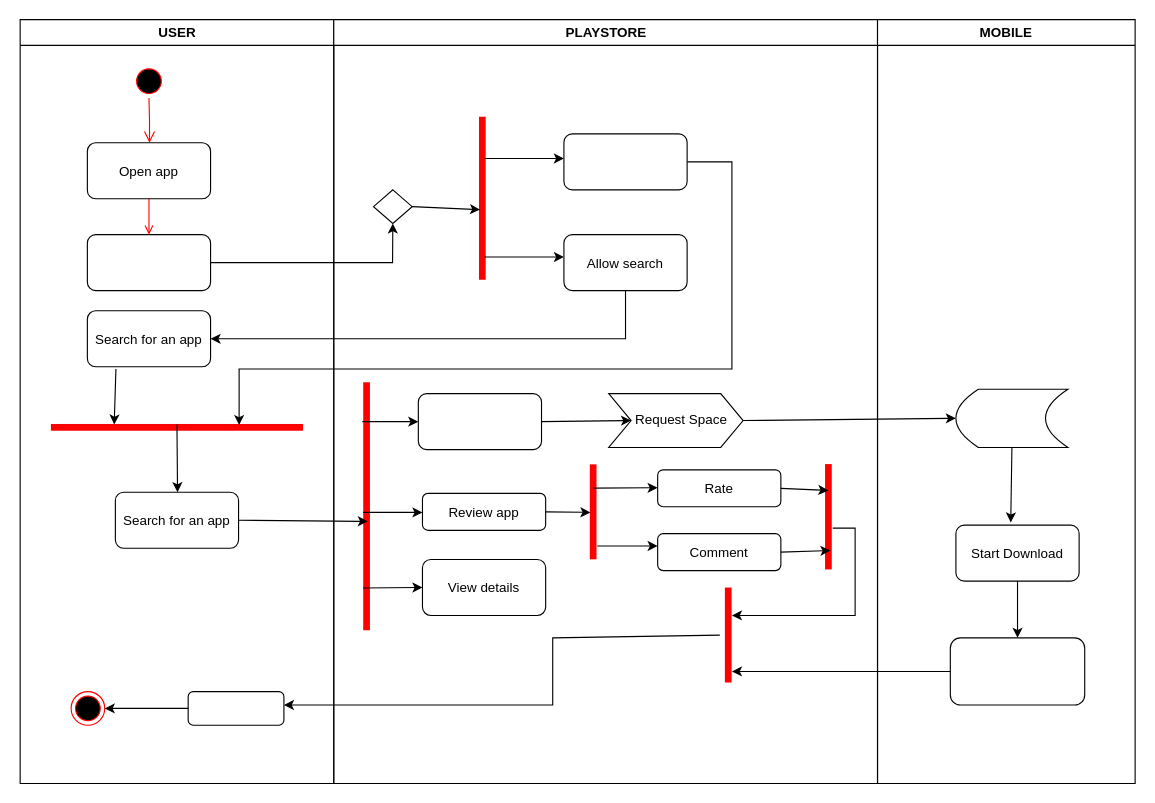
The diagram is 1155 pixels wide and 803 high, and some of its shapes have lost their labels. The centre of each missing label's shape, as x and y in pixels:
Approve Space: the point at 1011,417
Click Install: the point at 479,421
Exit app: the point at 235,707
Install on device: the point at 1017,671
Login: the point at 148,262
Show suggested apps: the point at 625,161
